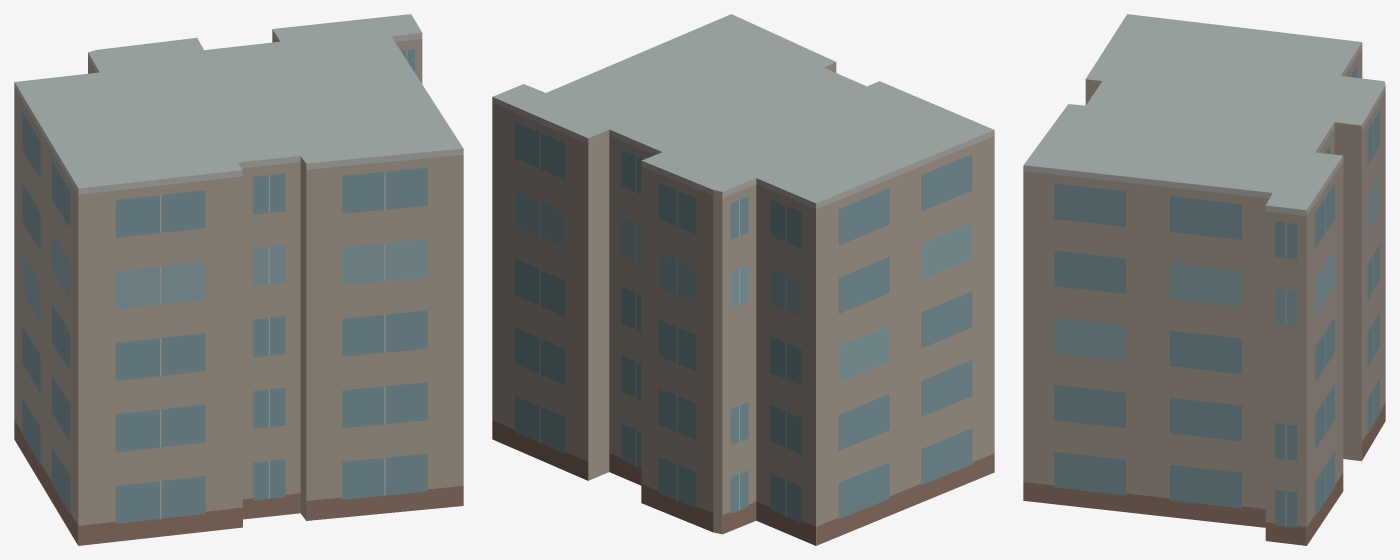
Rendered from survey-upis-32708879.glb.
The picture shows the model from 3 angles, left to right: view 1: azimuth 30°, elevation 25°; view 2: azimuth 150°, elevation 25°; view 3: azimuth 270°, elevation 25°; orthographic projection. The views are drawn at different scales.
Visible parts, largest first — view 1: survey-upis-32708879.tmp; view 2: survey-upis-32708879.tmp; view 3: survey-upis-32708879.tmp.
Part boxes in pixels (x1=…): survey-upis-32708879.tmp: x1=14, y1=14, x2=463, y2=545; survey-upis-32708879.tmp: x1=492, y1=14, x2=994, y2=545; survey-upis-32708879.tmp: x1=1023, y1=14, x2=1385, y2=545.
Size of the model in its own units: 17.45 by 13.9 by 13.6.
